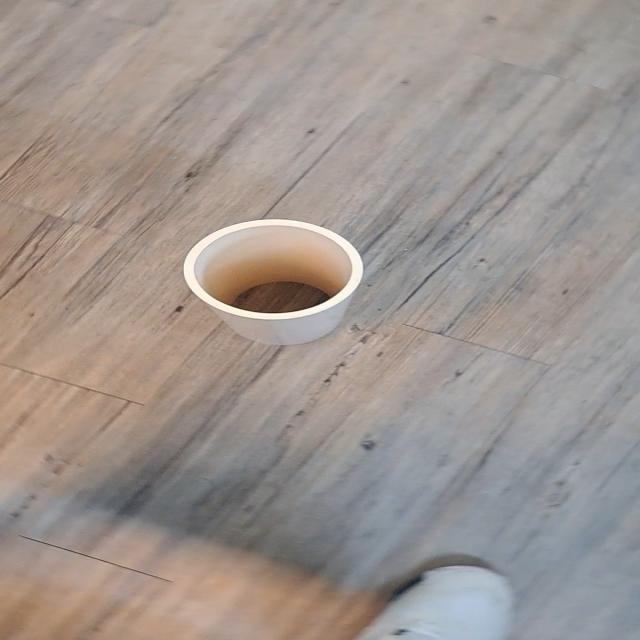CORAL: (160, 207, 392, 353)
